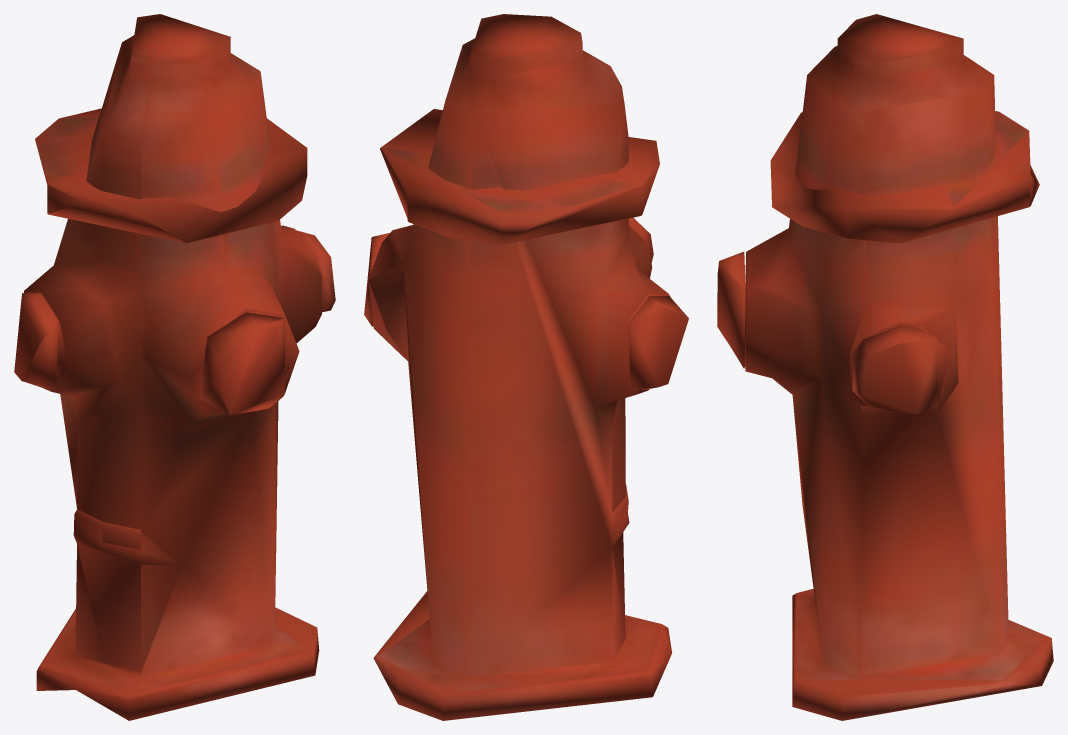
Rendered from hydrant.gltf.
3 views of the same model, side by side, from view 1: azimuth 30°, elevation 25°; view 2: azimuth 150°, elevation 25°; view 3: azimuth 270°, elevation 25° (orthographic).
Parts seen in each view (by area): view 1: hydrant; view 2: hydrant; view 3: hydrant.
Boxes of the visible parts, x1,y1,x2,y2 form: hydrant: [14, 14, 335, 720]; hydrant: [364, 14, 688, 720]; hydrant: [717, 14, 1053, 720].
Bounding box in the file's own units: 0.3688 × 0.7373 × 0.36.
1 material, 1 textured.
